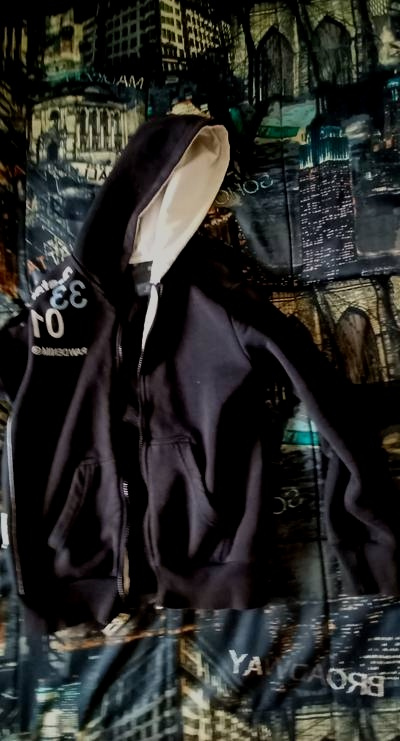Hoodie: (0, 64, 395, 700)
